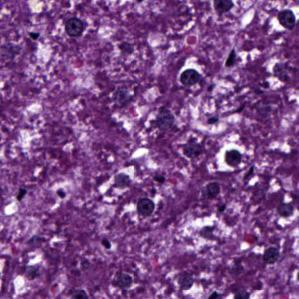inflammation: (220, 144, 245, 170), (135, 192, 157, 220), (180, 63, 203, 87)
